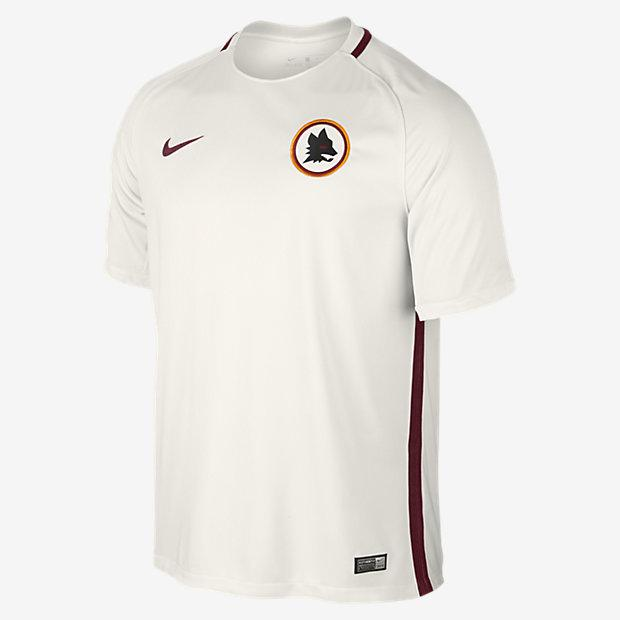teeshirt: (80, 17, 509, 620)
